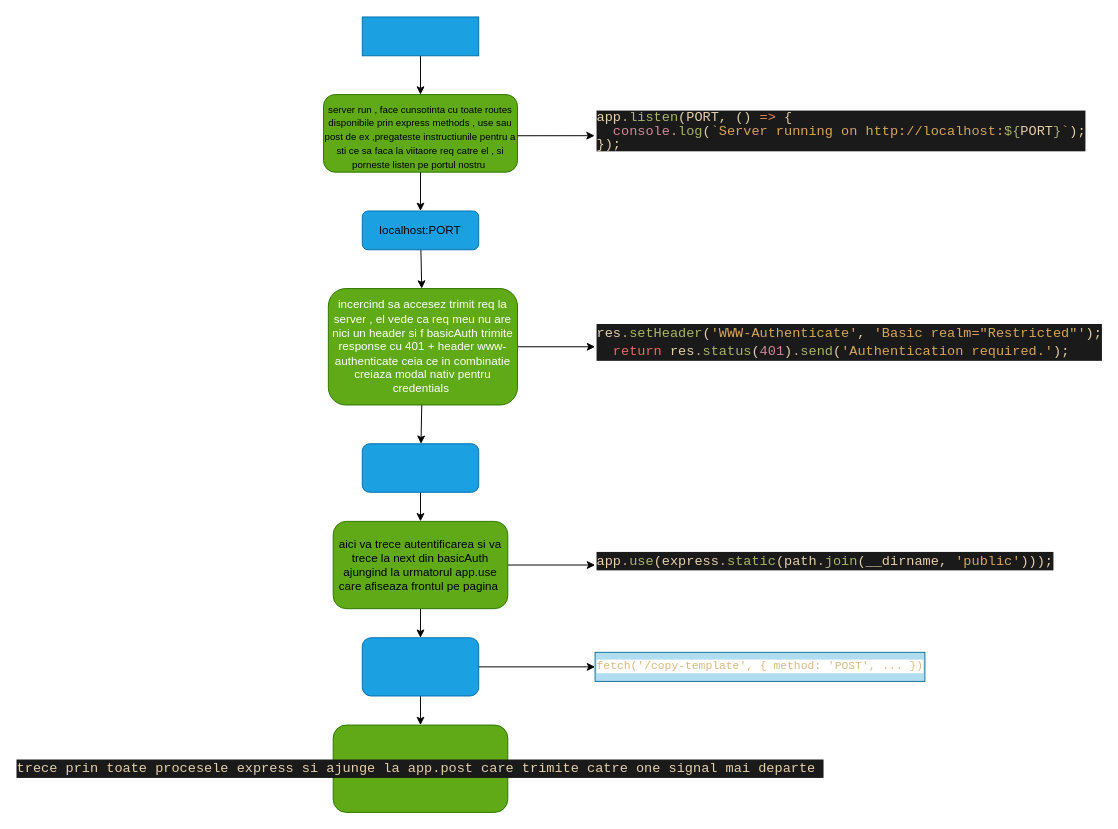
Some shapes in this 1118 by 829 pixel diagram are drawn without their labels. The shapes that lost their labels are listed below. From the top down, each one's box as (x1, y1, x2, y2) in pixels, then its label:
(361, 16, 479, 56): npm start
(361, 443, 479, 492): inseram datele si retrimitem alt req cu date pentru auth
(361, 637, 479, 696): inseram datele in formular si apasam send
